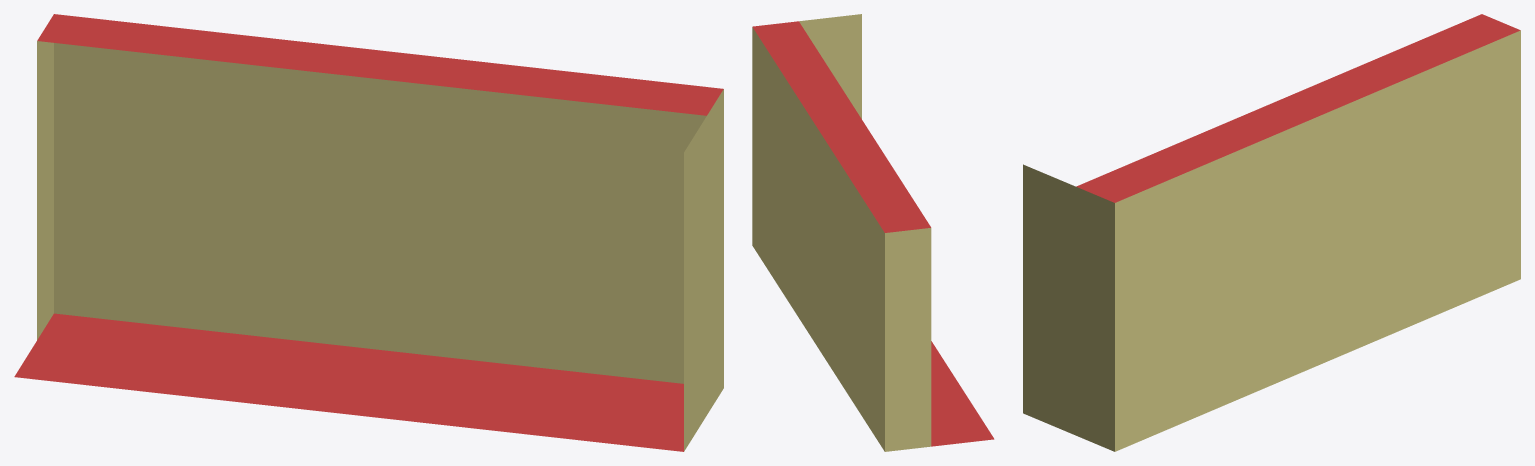
3 views of the same model, side by side, from view 1: azimuth 30°, elevation 25°; view 2: azimuth 150°, elevation 25°; view 3: azimuth 270°, elevation 25° (orthographic). The views are drawn at different scales.
Bounding box in the file's own units: 13.12 × 13.07 × 7.21.
